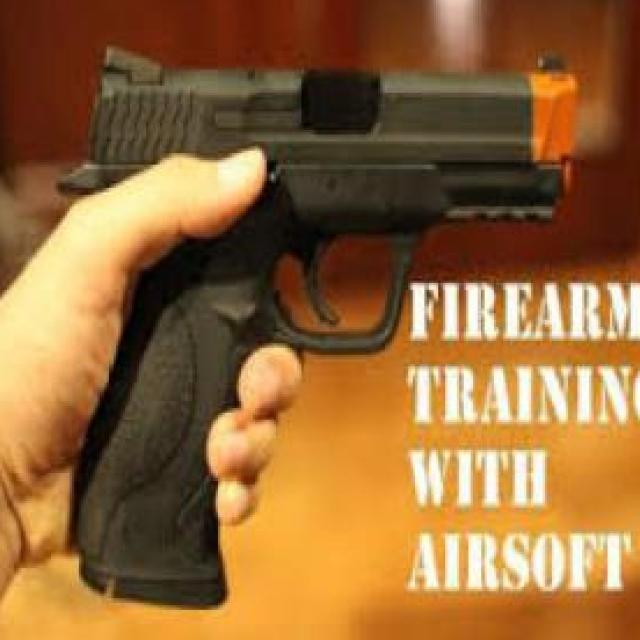pistol: (56, 34, 574, 586)
